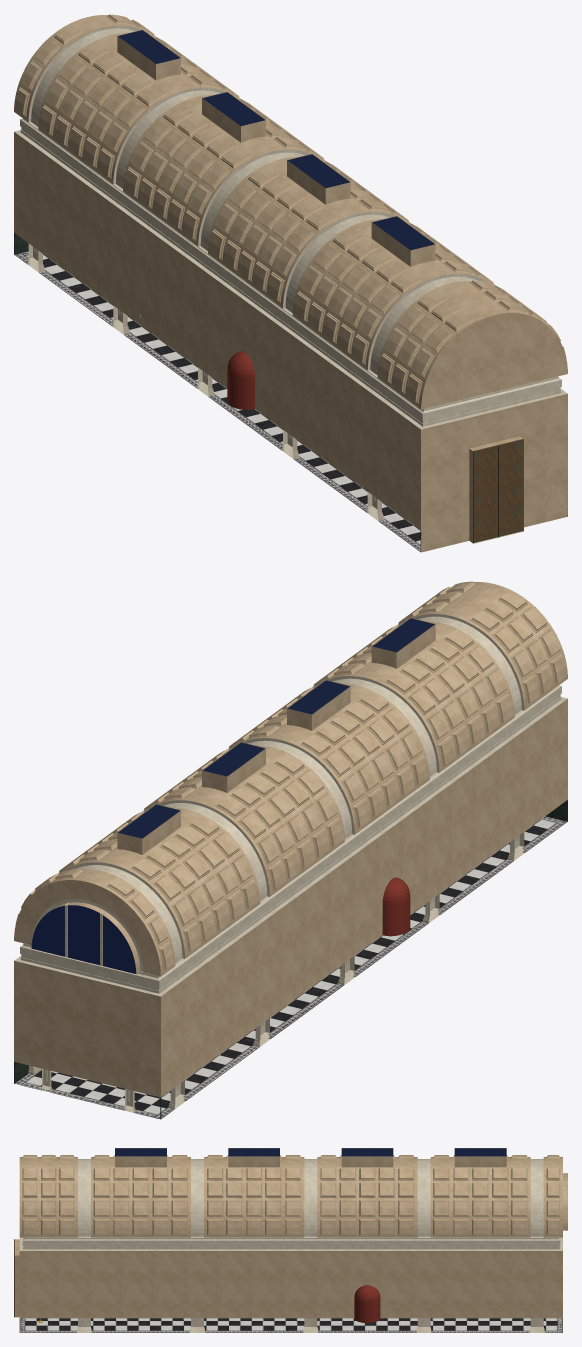
The model's file is museo.glb.
The picture shows the model from 3 angles, top to bottom: view 1: azimuth 30°, elevation 25°; view 2: azimuth 150°, elevation 25°; view 3: azimuth 270°, elevation 25°; orthographic projection. The views are drawn at different scales.
Visible parts, largest first — view 1: muros, boveda, suelo, puertas, emisivos; view 2: muros, boveda, suelo, emisivos; view 3: muros, boveda, suelo, emisivos.
Boxes of the visible parts, x1,y1,x2,y2 form: muros: [14, 15, 567, 552]; boveda: [14, 14, 567, 409]; suelo: [14, 251, 420, 551]; puertas: [473, 439, 523, 543]; emisivos: [93, 30, 434, 250]; muros: [14, 582, 567, 1119]; boveda: [14, 581, 567, 976]; suelo: [15, 816, 567, 1119]; emisivos: [31, 618, 434, 973]; muros: [15, 1173, 567, 1332]; boveda: [19, 1148, 562, 1237]; suelo: [20, 1318, 562, 1332]; emisivos: [115, 1148, 506, 1156].
Size of the model in its own units: 8.44 by 10.7 by 34.25.
23 materials, 9 textured.
